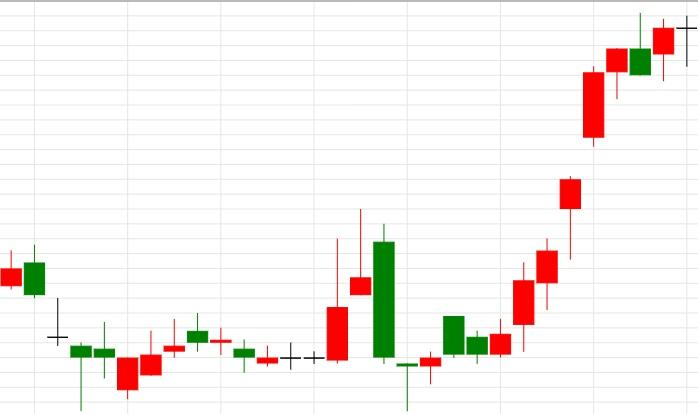hanging_man_fall: (490, 176, 581, 358)
